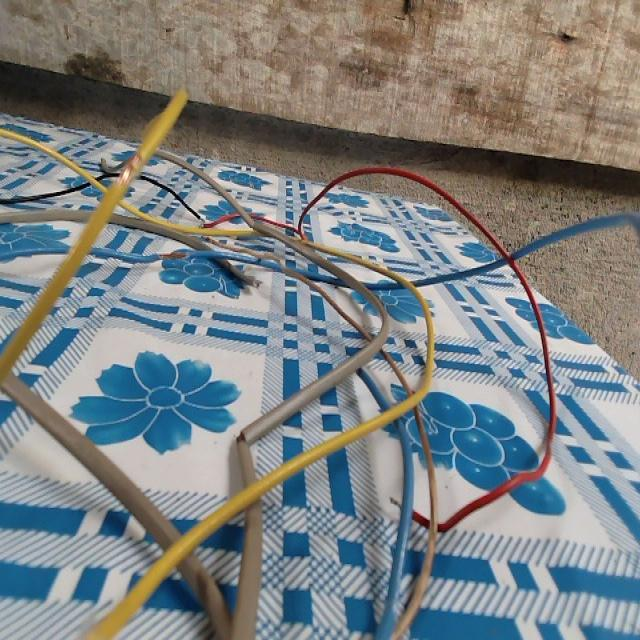-: (118, 148, 143, 188), (156, 245, 190, 263), (231, 428, 251, 448), (248, 273, 262, 291)
